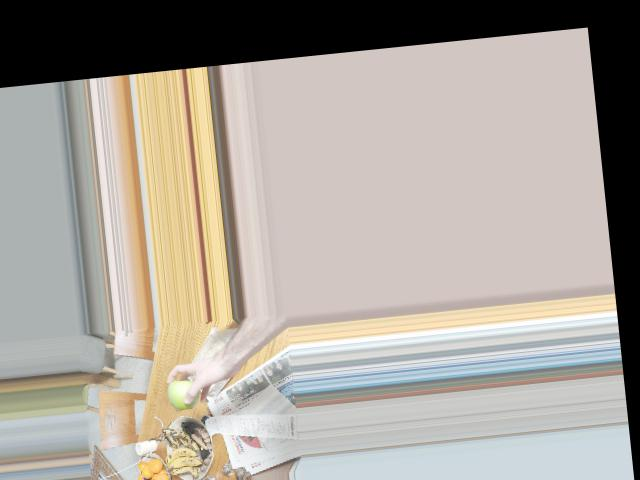apple: (166, 379, 203, 412)
